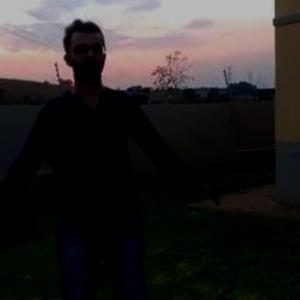land: (1, 37, 197, 299)
